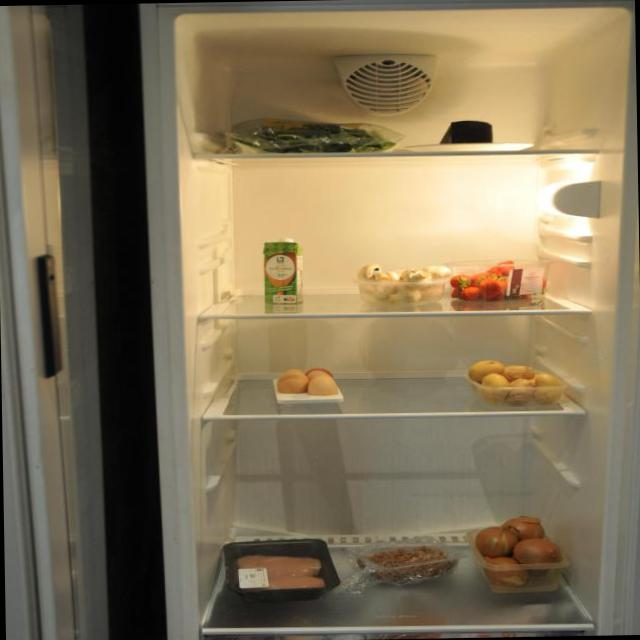Carne pollo: (228, 539, 329, 593)
Cebolla: (469, 510, 566, 594)
Champiñones: (356, 261, 453, 306)
Gambas/Langostinos: (358, 542, 454, 580)
Huevos: (274, 362, 340, 400)
Patata: (462, 356, 573, 406)
Queso: (438, 117, 502, 146)
heavy_cream: (253, 233, 306, 310)
spinach: (232, 117, 402, 157)
strawberries: (452, 258, 554, 300)
